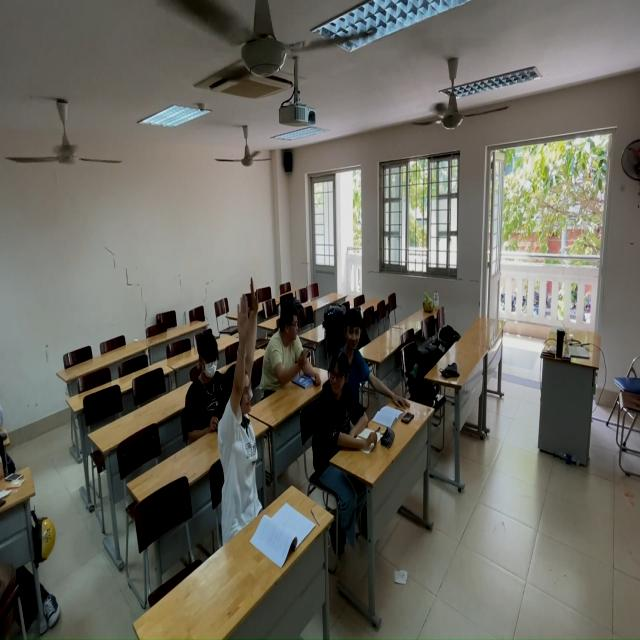raise_hand: (212, 274, 271, 526), (263, 301, 321, 391)
read: (338, 307, 410, 413), (185, 323, 244, 436), (322, 344, 374, 455)
